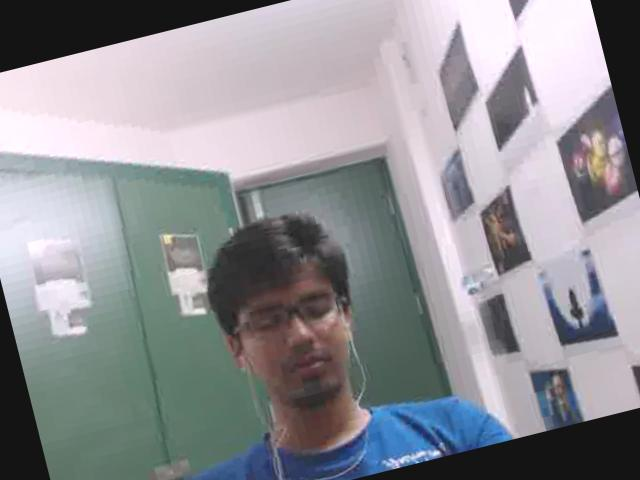bosan: (228, 253, 368, 414)
